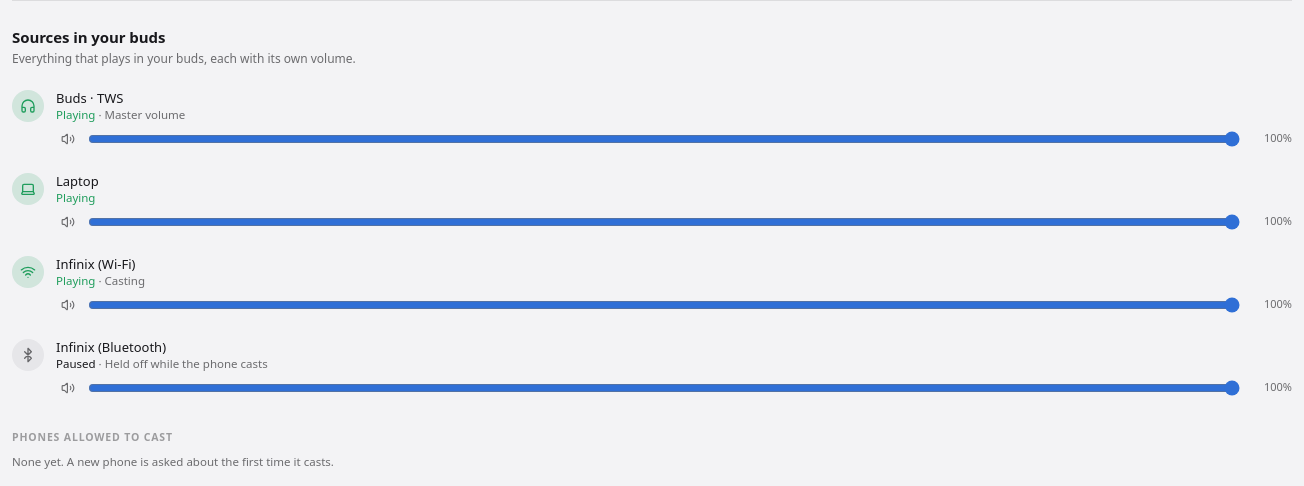
Scenario: SourcesPanel › sends a slider move after the drag pauses
Set the slider named "Infinix (Wi-Fi) volume" to "40" at [550, 305], box 88,296 -> 1240,314
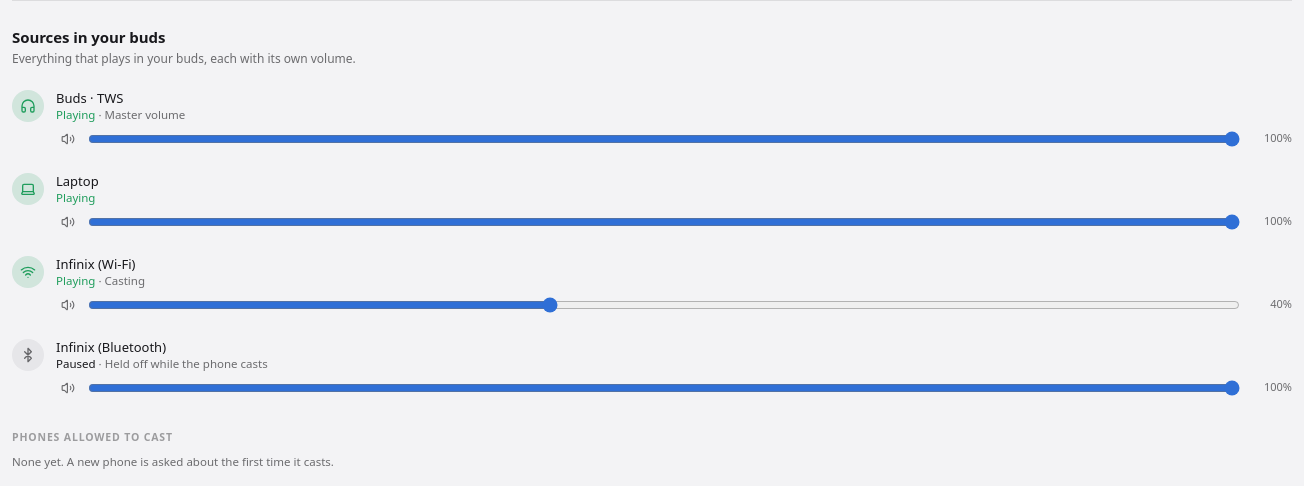
Set the slider named "Infinix (Wi-Fi) volume" to "35" at [494, 305], box 88,296 -> 1240,314
Wait 250 ms
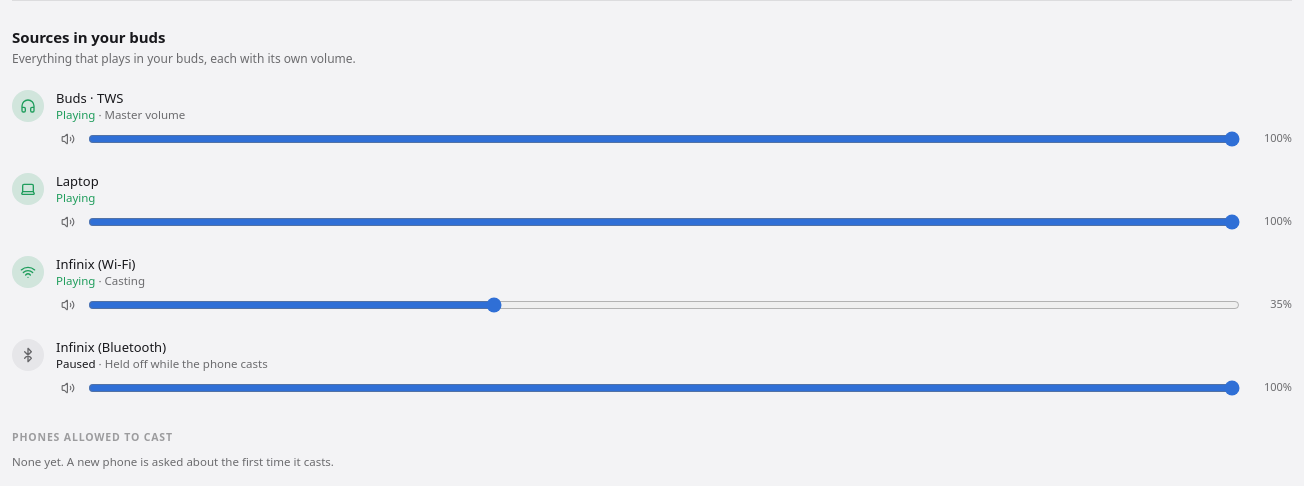
Expected: the text "35%" is shown, 1270,296 -> 1292,311
